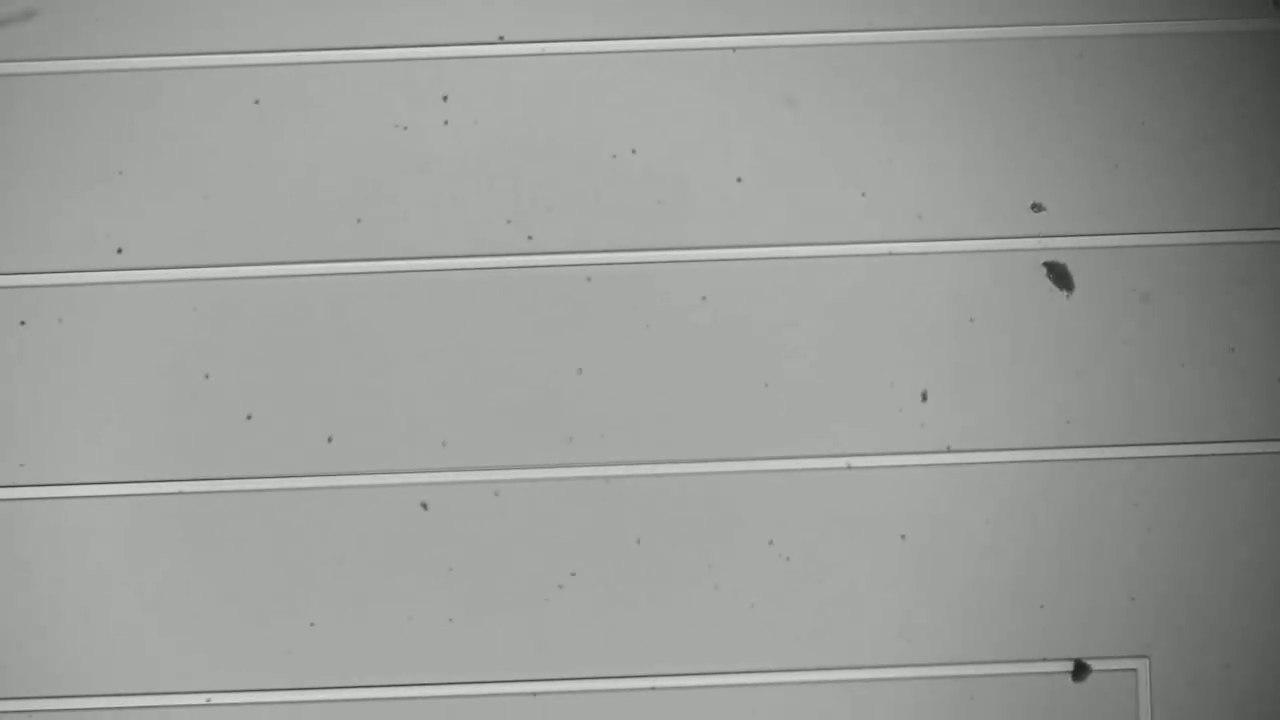stains_enbedded: (1061, 650, 1101, 686)
